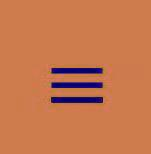ImgButton: (1, 1, 150, 153)
